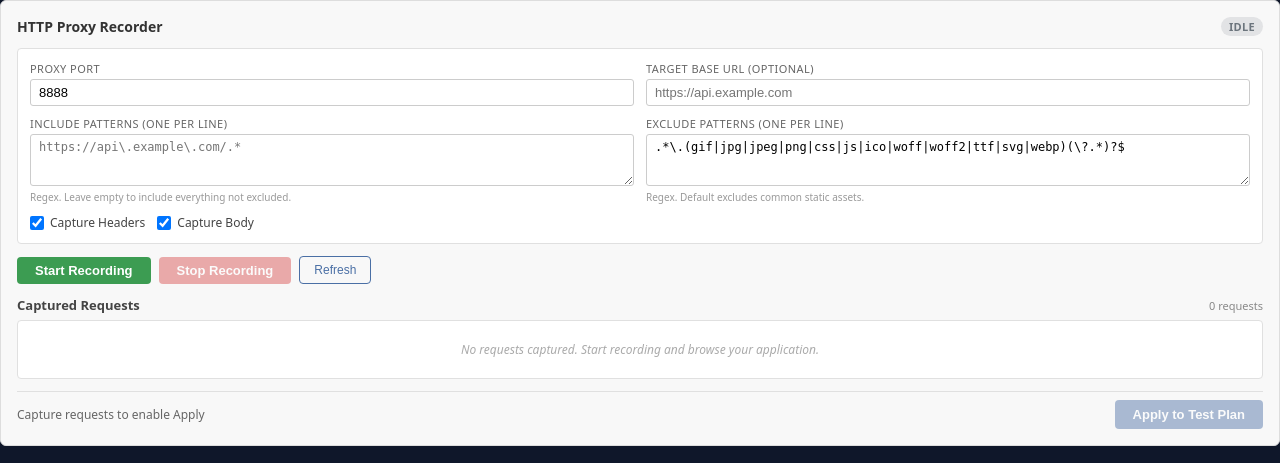
ProxyRecorderPanel — captured list › renders status code for captured request
Click the button with test id "refresh-captured-btn": (335, 270) left=299, top=256, right=371, bottom=284
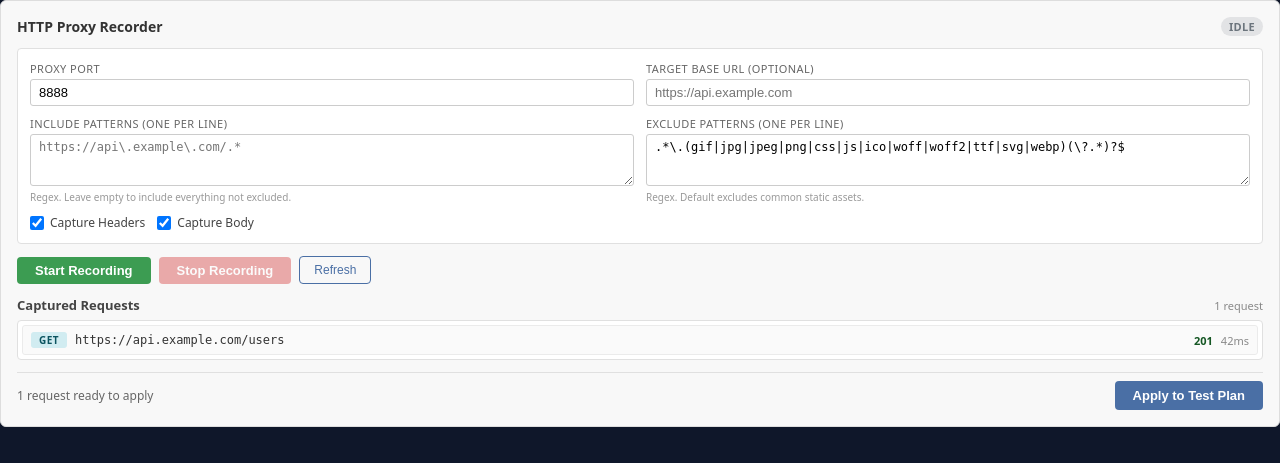
Check: the text with test id "captured-status-code" reads "201", box left=1194, top=332, right=1213, bottom=348
